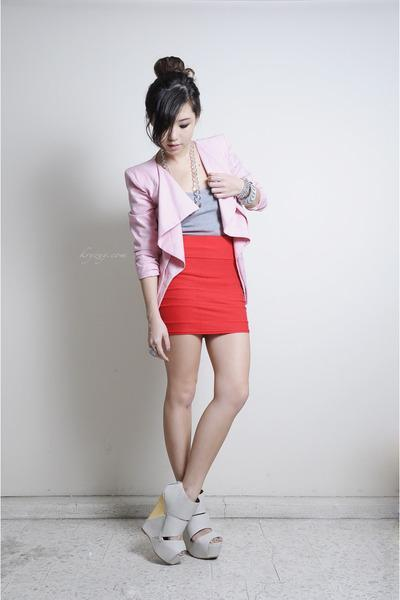jacket: (125, 148, 259, 286)
shirt: (181, 163, 223, 235)
shoe: (142, 477, 221, 565)
skirt: (159, 228, 249, 334)
